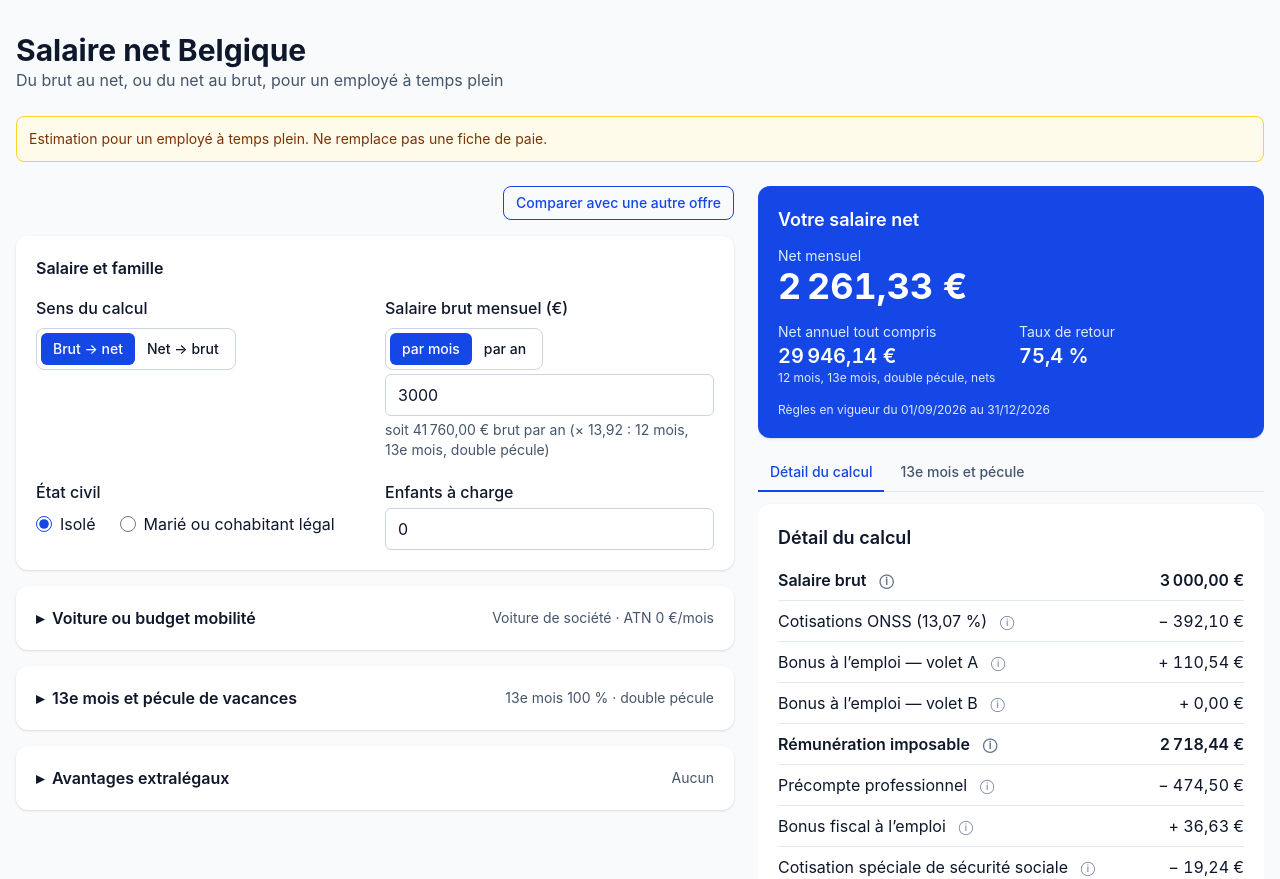
Scenario: App › n’affiche les revenus du conjoint que pour un marié ou cohabitant
Check: the field labelled "Revenus du conjoint" is not shown
Click the radio button labelled "Marié ou cohabitant légal" at x=128, y=524, box [120,516,136,532]
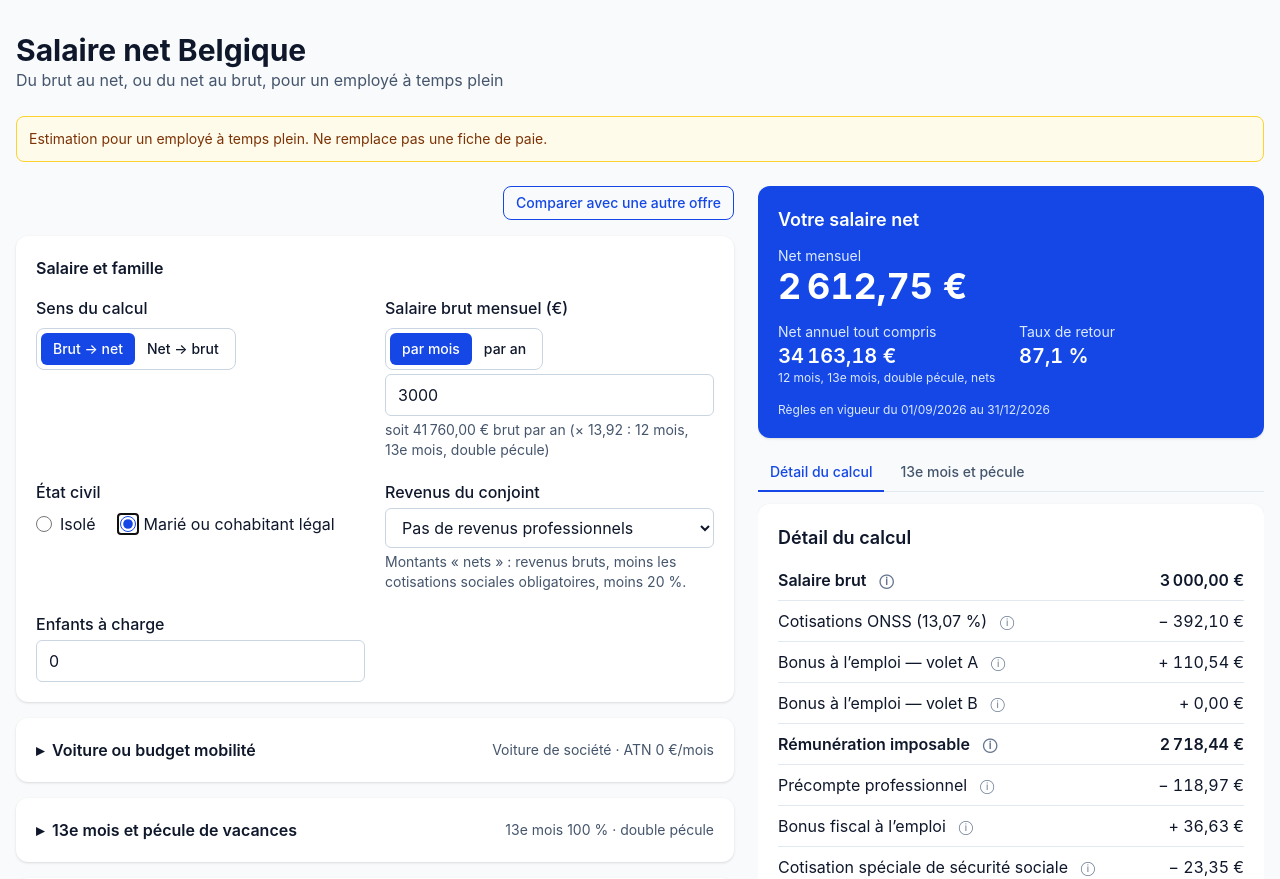
Check: the dropdown labelled "Revenus du conjoint" is shown, box [385,508,714,548]
